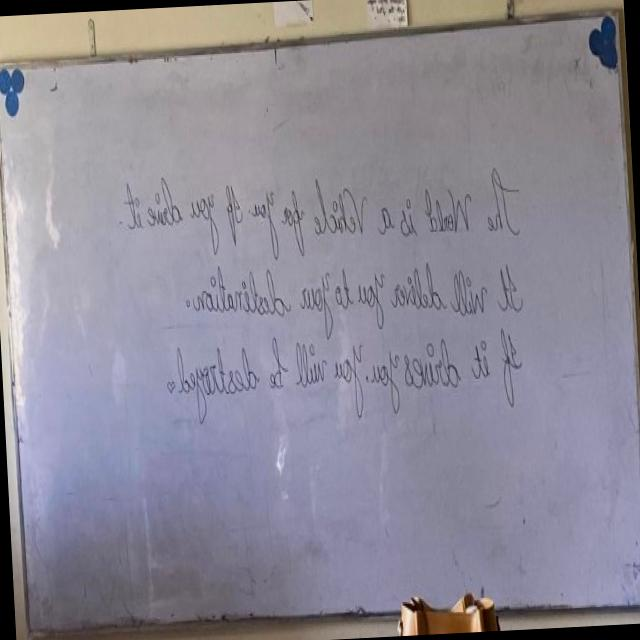White-board: (0, 6, 640, 632)
